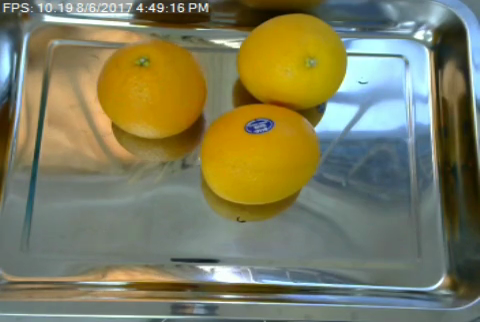Orange: (201, 104, 319, 204), (97, 39, 206, 139), (238, 14, 347, 109)
